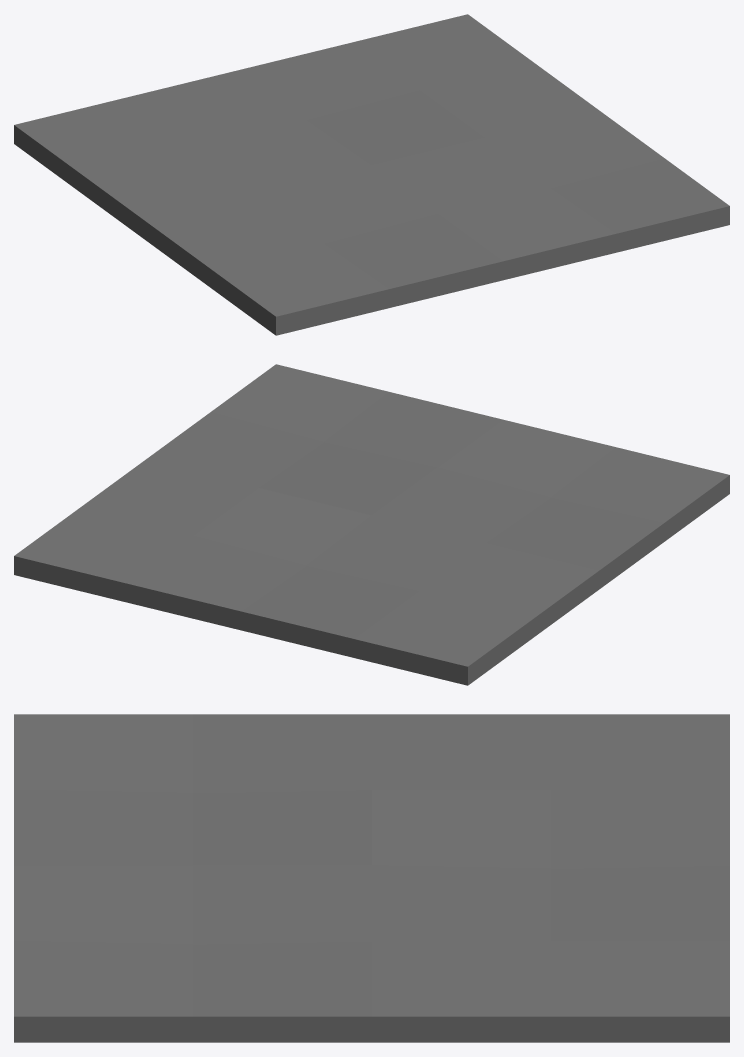
Rendered from RoofMiddle.glb.
The picture shows the model from 3 angles, top to bottom: view 1: azimuth 30°, elevation 25°; view 2: azimuth 150°, elevation 25°; view 3: azimuth 270°, elevation 25°; orthographic projection. The views are drawn at different scales.
Visible parts, largest first — view 1: RoofMiddle; view 2: RoofMiddle; view 3: RoofMiddle.
Part boxes in pixels (x1,y1,x2,y2): RoofMiddle: (14, 14, 729, 335); RoofMiddle: (14, 364, 729, 685); RoofMiddle: (14, 714, 729, 1042).
Size of the model in its own units: 1 by 0.04 by 1.
1 material, 1 textured.
